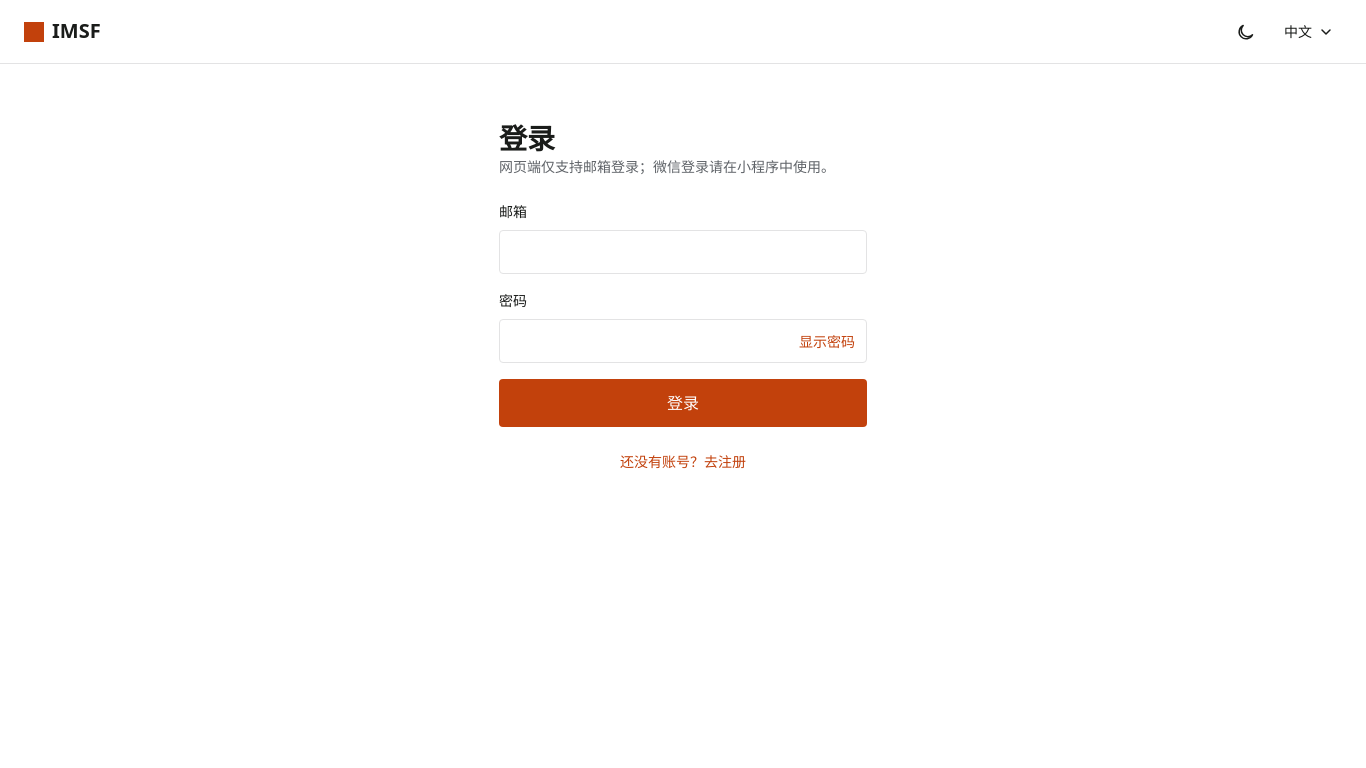
Scenario: error mapping › 429 shows the lock message and disables the submit button
In the field labelled "邮箱": (683, 252) x1=499 y1=230 x2=867 y2=274, type "a@b.c"
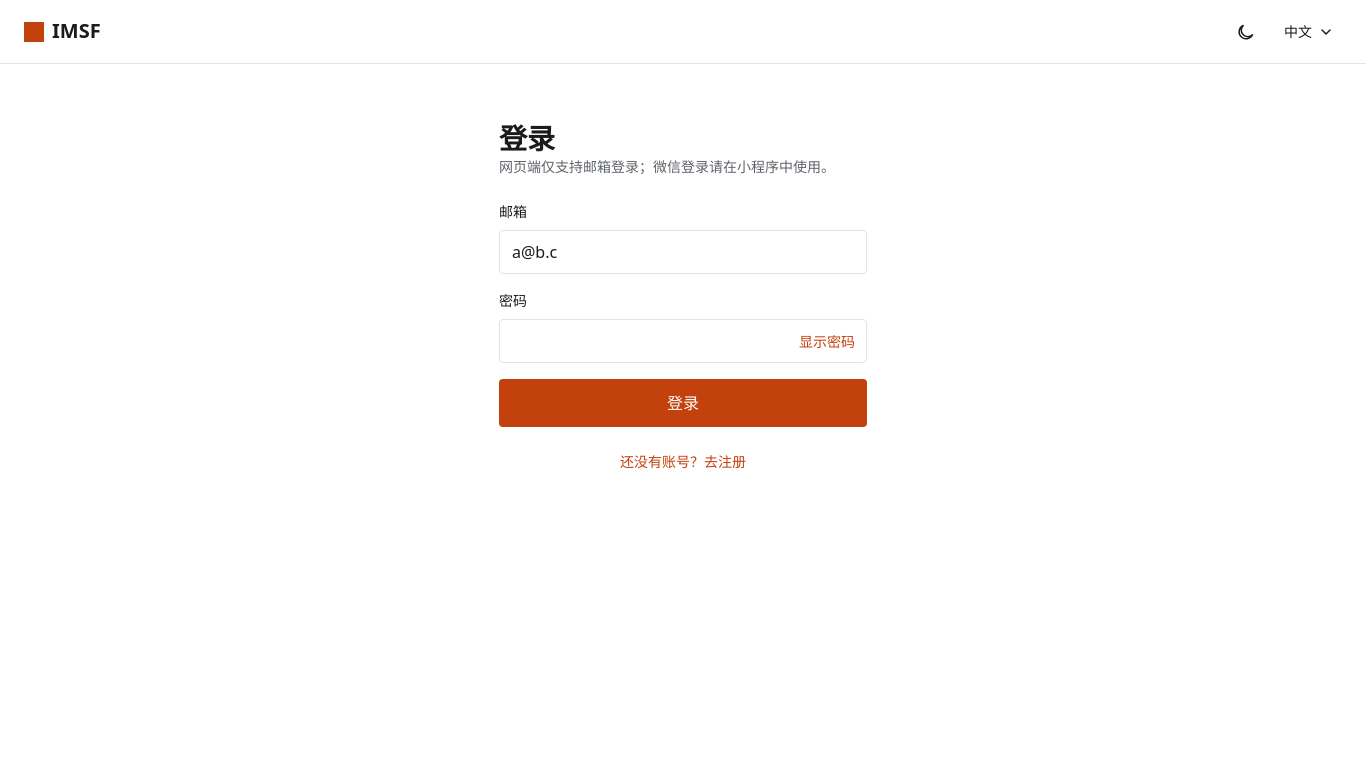
In the password field labelled "密码": (683, 341) x1=499 y1=319 x2=867 y2=363, type "wrongpass"
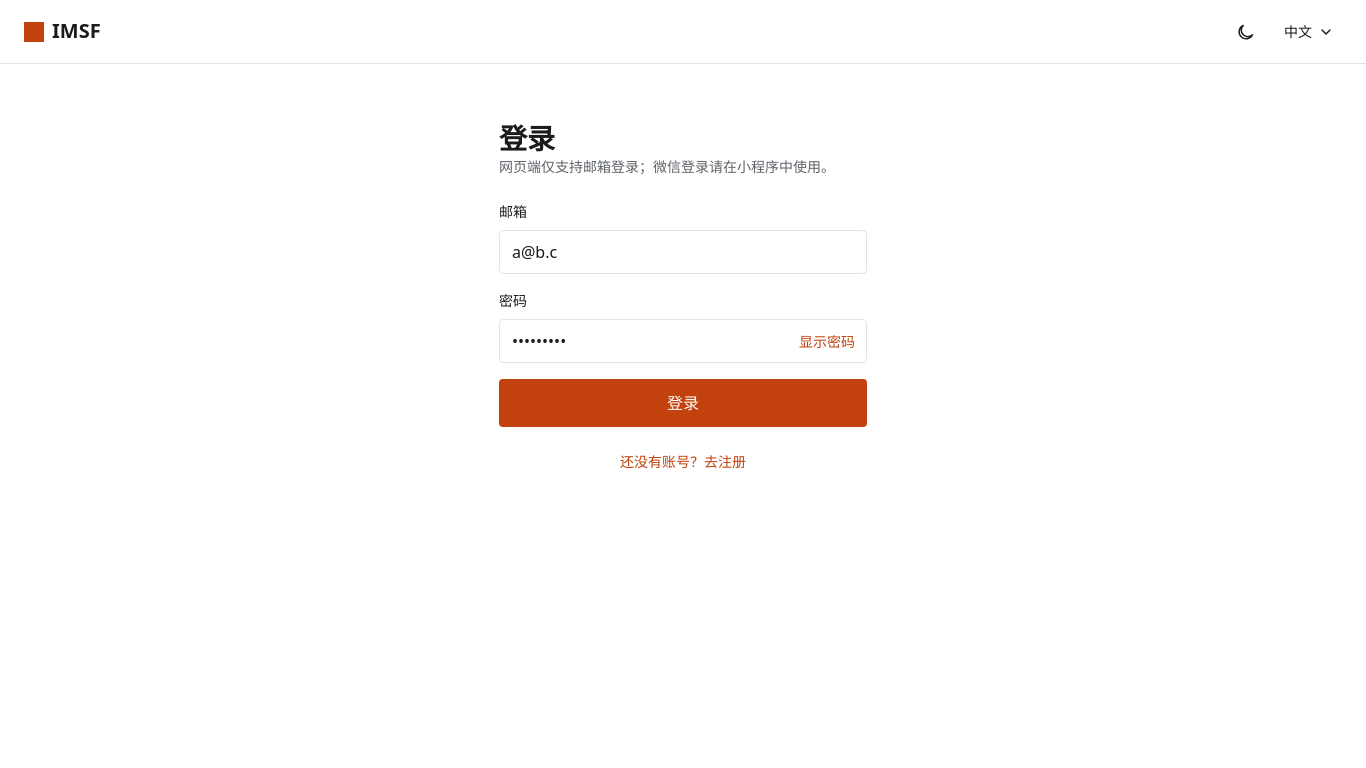
Click the button "登录": click(683, 403) x1=499 y1=379 x2=867 y2=427
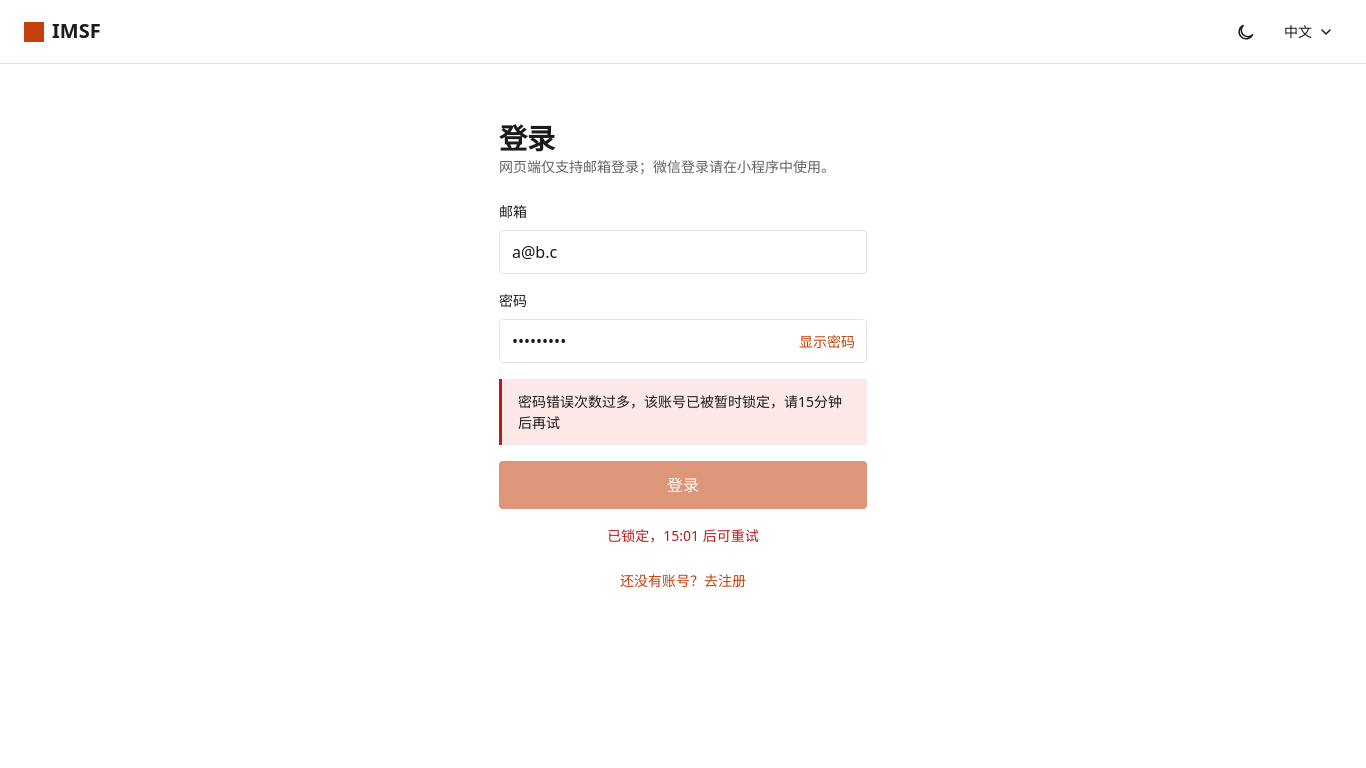
Result: the message reads "密码错误次数过多，该账号已被暂时锁定，请15分钟后再试" at x1=518 y1=392 x2=842 y2=432
Result: the button "登录" is disabled at x1=499 y1=461 x2=867 y2=509
Result: the text "已锁定，15:01 后可重试" is shown at x1=607 y1=526 x2=759 y2=545
